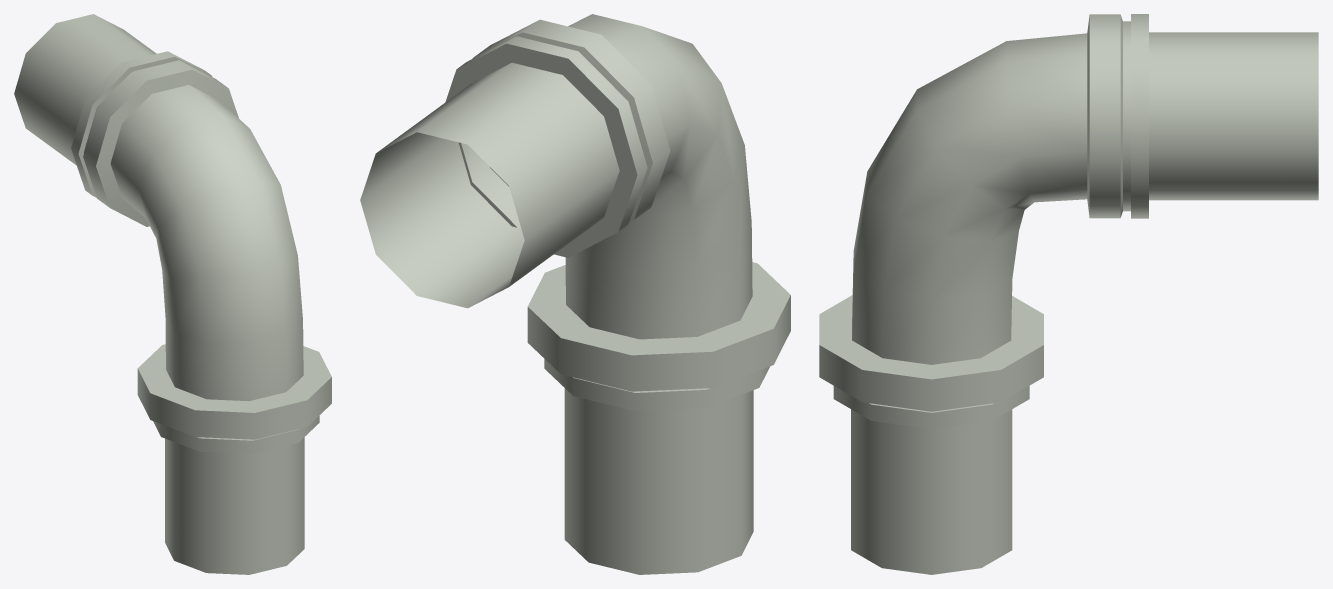
Rendered from SM_pipe_modular_gray_A.fbx.
3 views of the same model, side by side, from view 1: azimuth 30°, elevation 25°; view 2: azimuth 150°, elevation 25°; view 3: azimuth 270°, elevation 25° (orthographic). The views are drawn at different scales.
Visible parts, largest first — view 1: pCylinder81; view 2: pCylinder81; view 3: pCylinder81.
Part boxes in pixels (<box>): pCylinder81: <box>14,14,331,574</box>; pCylinder81: <box>360,14,790,574</box>; pCylinder81: <box>819,14,1318,574</box>.
Size of the model in its own units: 139 by 333 by 294.
